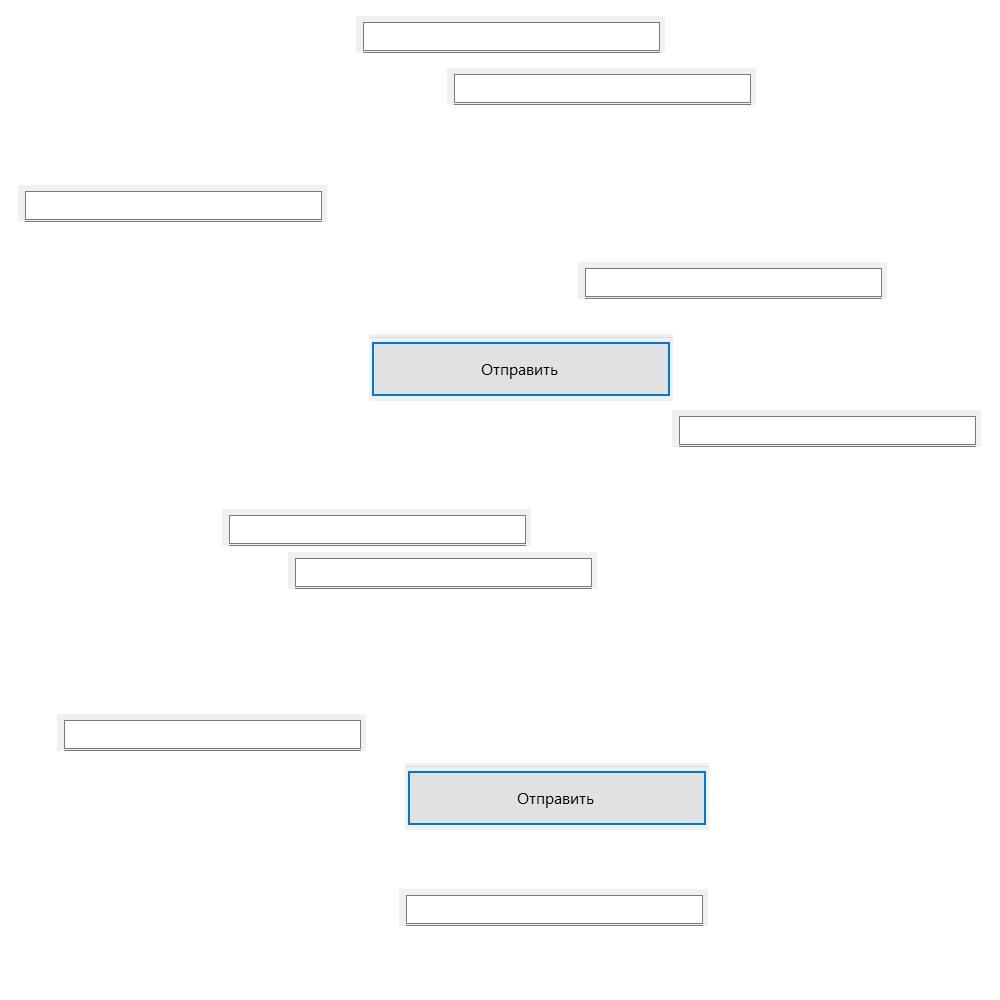Button: (405, 763, 709, 830), (369, 334, 673, 401)
EditText-: (672, 410, 981, 447), (222, 509, 531, 546), (578, 262, 887, 299), (399, 889, 708, 926), (447, 68, 756, 105), (18, 185, 327, 222), (288, 552, 597, 589), (57, 714, 366, 751), (356, 16, 665, 53)
